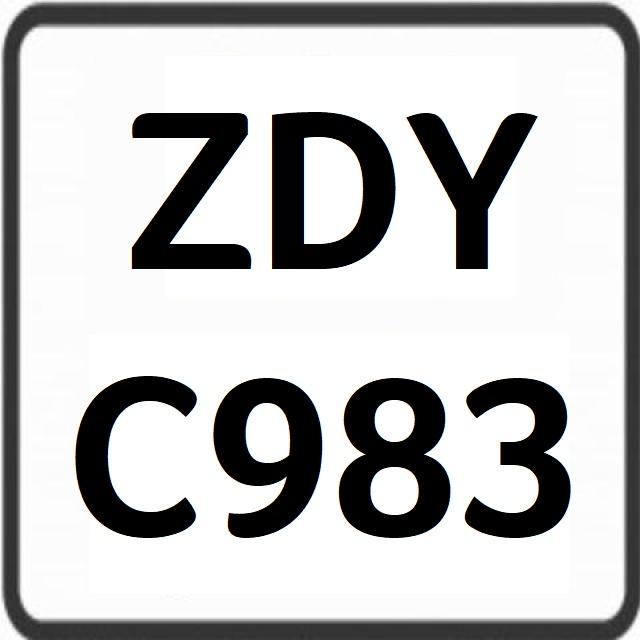3: (459, 366, 581, 559)
8: (335, 358, 453, 546)
9: (207, 360, 329, 562)
C: (67, 357, 201, 544)
D: (269, 108, 400, 292)
Y: (406, 92, 546, 288)
Z: (127, 87, 254, 289)
